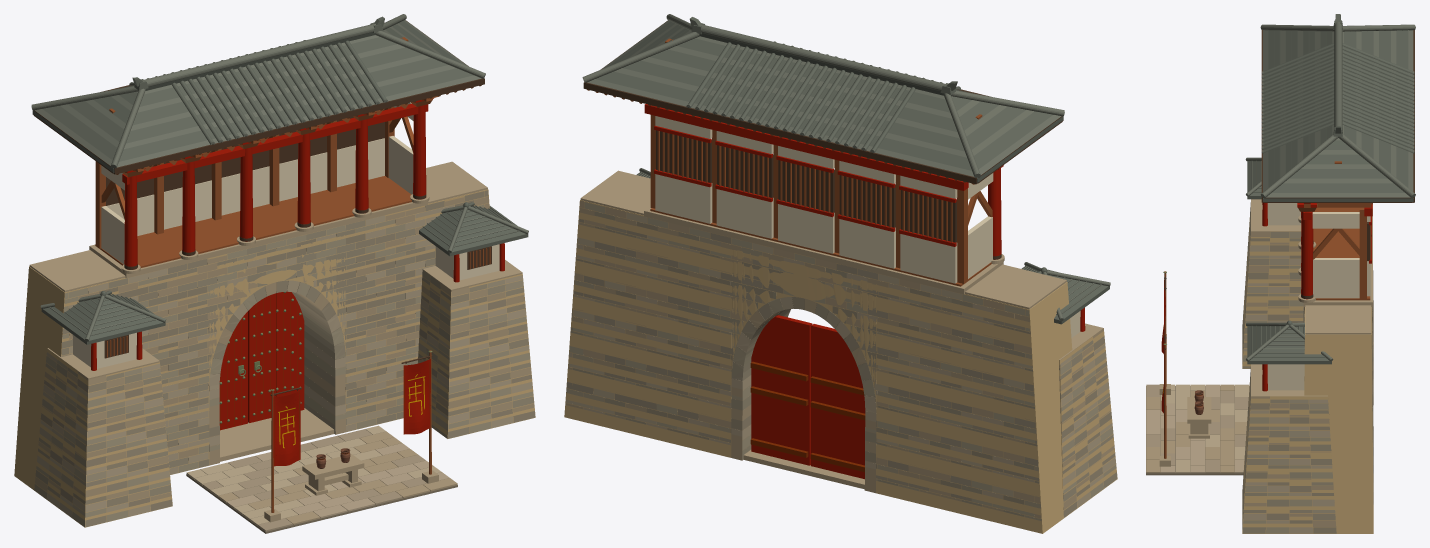
Rendered from xy_dongtu.glb.
3 views of the same model, side by side, from view 1: azimuth 30°, elevation 25°; view 2: azimuth 150°, elevation 25°; view 3: azimuth 270°, elevation 25° (orthographic). The views are drawn at different scales.
Visible parts, largest first — view 1: xy_dongtu; view 2: xy_dongtu; view 3: xy_dongtu.
Part boxes in pixels (x1,y1,x2,y2): xy_dongtu: [14, 14, 535, 533]; xy_dongtu: [564, 14, 1117, 533]; xy_dongtu: [1146, 14, 1415, 533].
Size of the model in its own units: 32 by 26.25 by 17.8.
